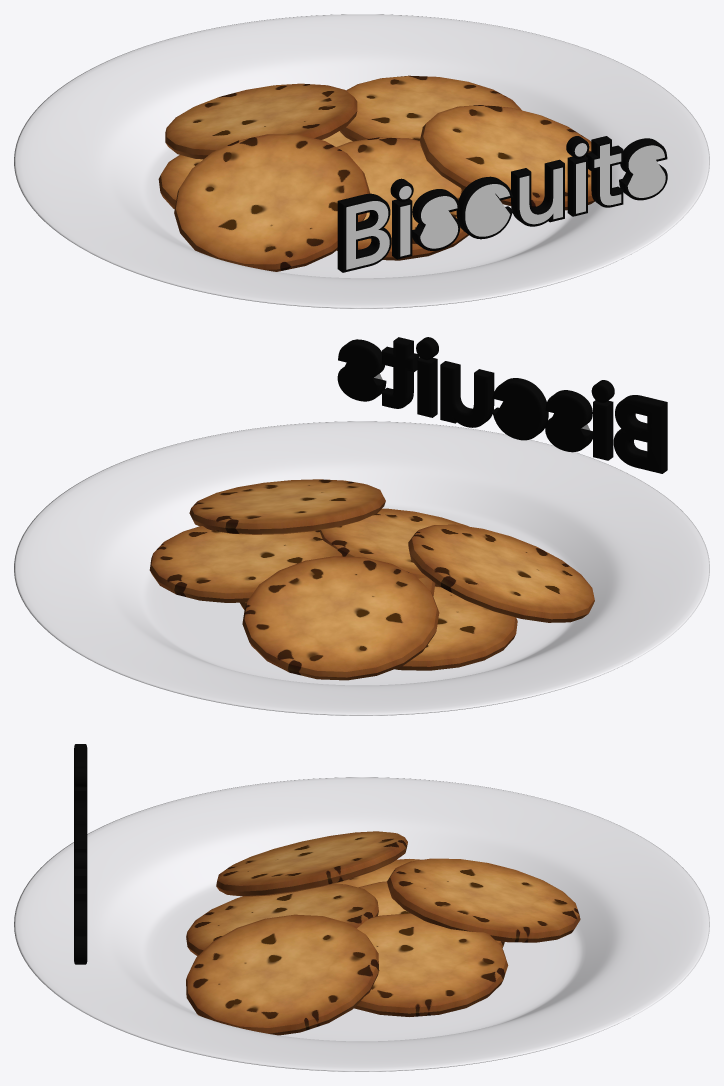
Rendered from biscuits.fbx.
3 renders of one model, top to bottom at view 1: azimuth 30°, elevation 25°; view 2: azimuth 150°, elevation 25°; view 3: azimuth 270°, elevation 25°, orthographic.
Parts seen in each view (by area): view 1: Circle, pCylinder6, typeMesh2, pCylinder5, pCylinder7, pCylinder3, pCylinder4, pCylinder1; view 2: Circle, pCylinder7, typeMesh2, pCylinder6, pCylinder3, pCylinder5, pCylinder1, pCylinder4; view 3: Circle, pCylinder5, pCylinder7, pCylinder3, pCylinder6, pCylinder4, typeMesh2, pCylinder2, pCylinder1.
Part boxes in pixels (x1,y1,x2,y2): Circle: [14, 14, 709, 308]; pCylinder6: [174, 134, 370, 271]; typeMesh2: [337, 136, 667, 272]; pCylinder5: [420, 105, 594, 210]; pCylinder7: [165, 83, 357, 159]; pCylinder3: [340, 75, 521, 141]; pCylinder4: [336, 137, 468, 260]; pCylinder1: [158, 155, 202, 208]; Circle: [14, 421, 709, 715]; pCylinder7: [242, 556, 439, 680]; typeMesh2: [337, 337, 667, 473]; pCylinder6: [408, 524, 594, 622]; pCylinder3: [149, 526, 342, 602]; pCylinder5: [189, 479, 385, 534]; pCylinder1: [395, 586, 517, 670]; pCylinder4: [319, 508, 468, 587]; Circle: [14, 777, 709, 1071]; pCylinder5: [186, 914, 379, 1035]; pCylinder7: [387, 858, 580, 942]; pCylinder3: [354, 913, 508, 1016]; pCylinder6: [216, 831, 407, 896]; pCylinder4: [186, 883, 378, 956]; typeMesh2: [74, 744, 87, 964]; pCylinder2: [358, 881, 504, 947]; pCylinder1: [334, 859, 421, 887].
Size of the model in its own units: 313 by 70.31 by 313.
4 materials, 1 textured.
